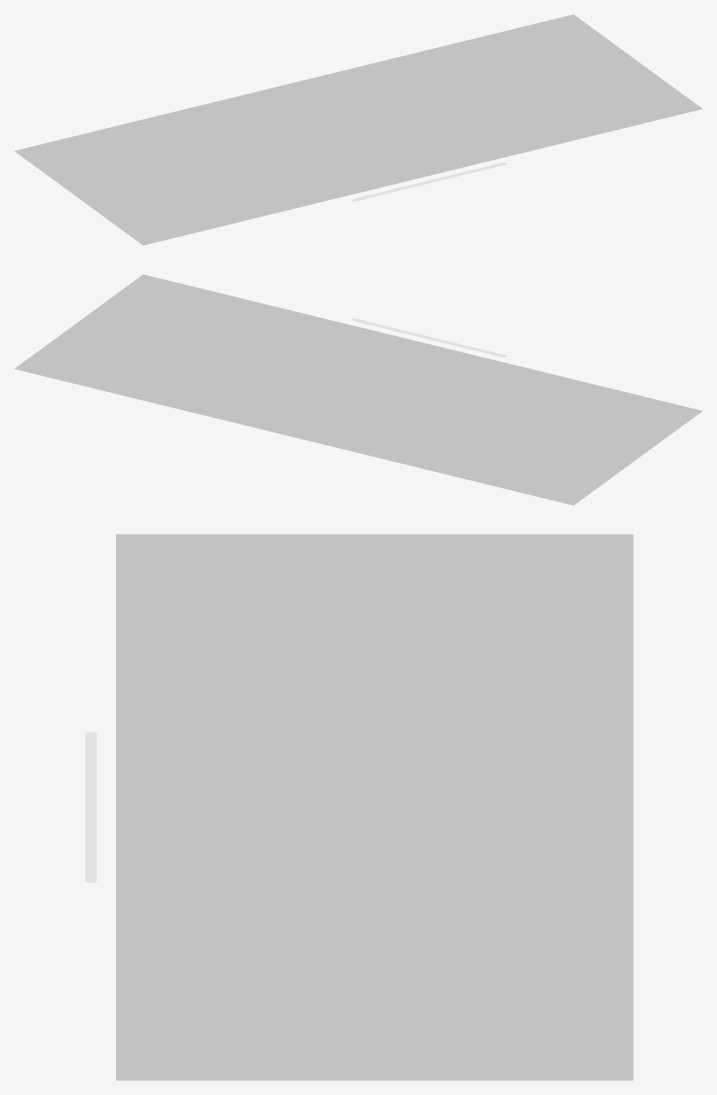
The model's file is keyboard.glb.
3 renders of one model, top to bottom at view 1: azimuth 30°, elevation 25°; view 2: azimuth 150°, elevation 25°; view 3: azimuth 270°, elevation 25°, orthographic. The views are drawn at different scales.
Visible parts, largest first — view 1: Plane, Plane.001; view 2: Plane, Plane.001; view 3: Plane, Plane.001.
Part boxes in pixels (bbox=[...]): Plane: bbox=[14, 14, 702, 245]; Plane.001: bbox=[351, 162, 507, 201]; Plane: bbox=[14, 274, 702, 505]; Plane.001: bbox=[351, 318, 507, 357]; Plane: bbox=[116, 534, 633, 1080]; Plane.001: bbox=[85, 732, 96, 882].
Size of the model in its own units: 0.8889 by 0 by 0.3777.
1 material, 1 textured.
